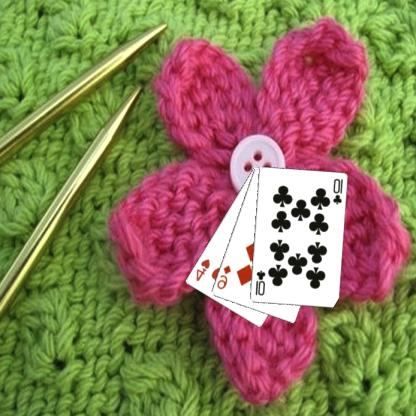10C: (254, 268, 268, 297), (332, 176, 345, 206)
4H: (195, 256, 213, 283)
9D: (216, 262, 234, 290)
